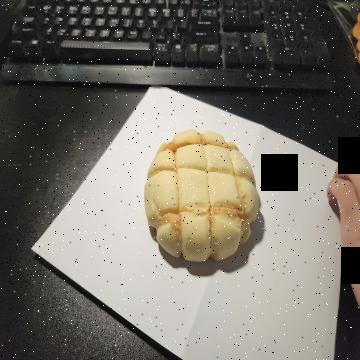melon_bread: (144, 130, 260, 262)
